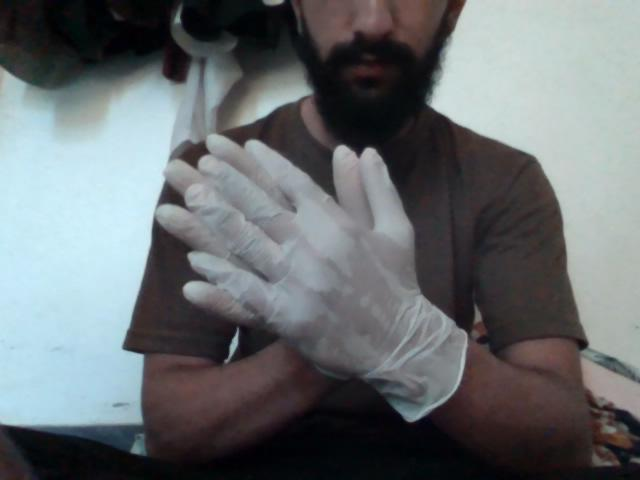gloves: (151, 99, 501, 437)
